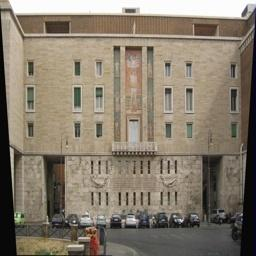building: (22, 0, 240, 227)
